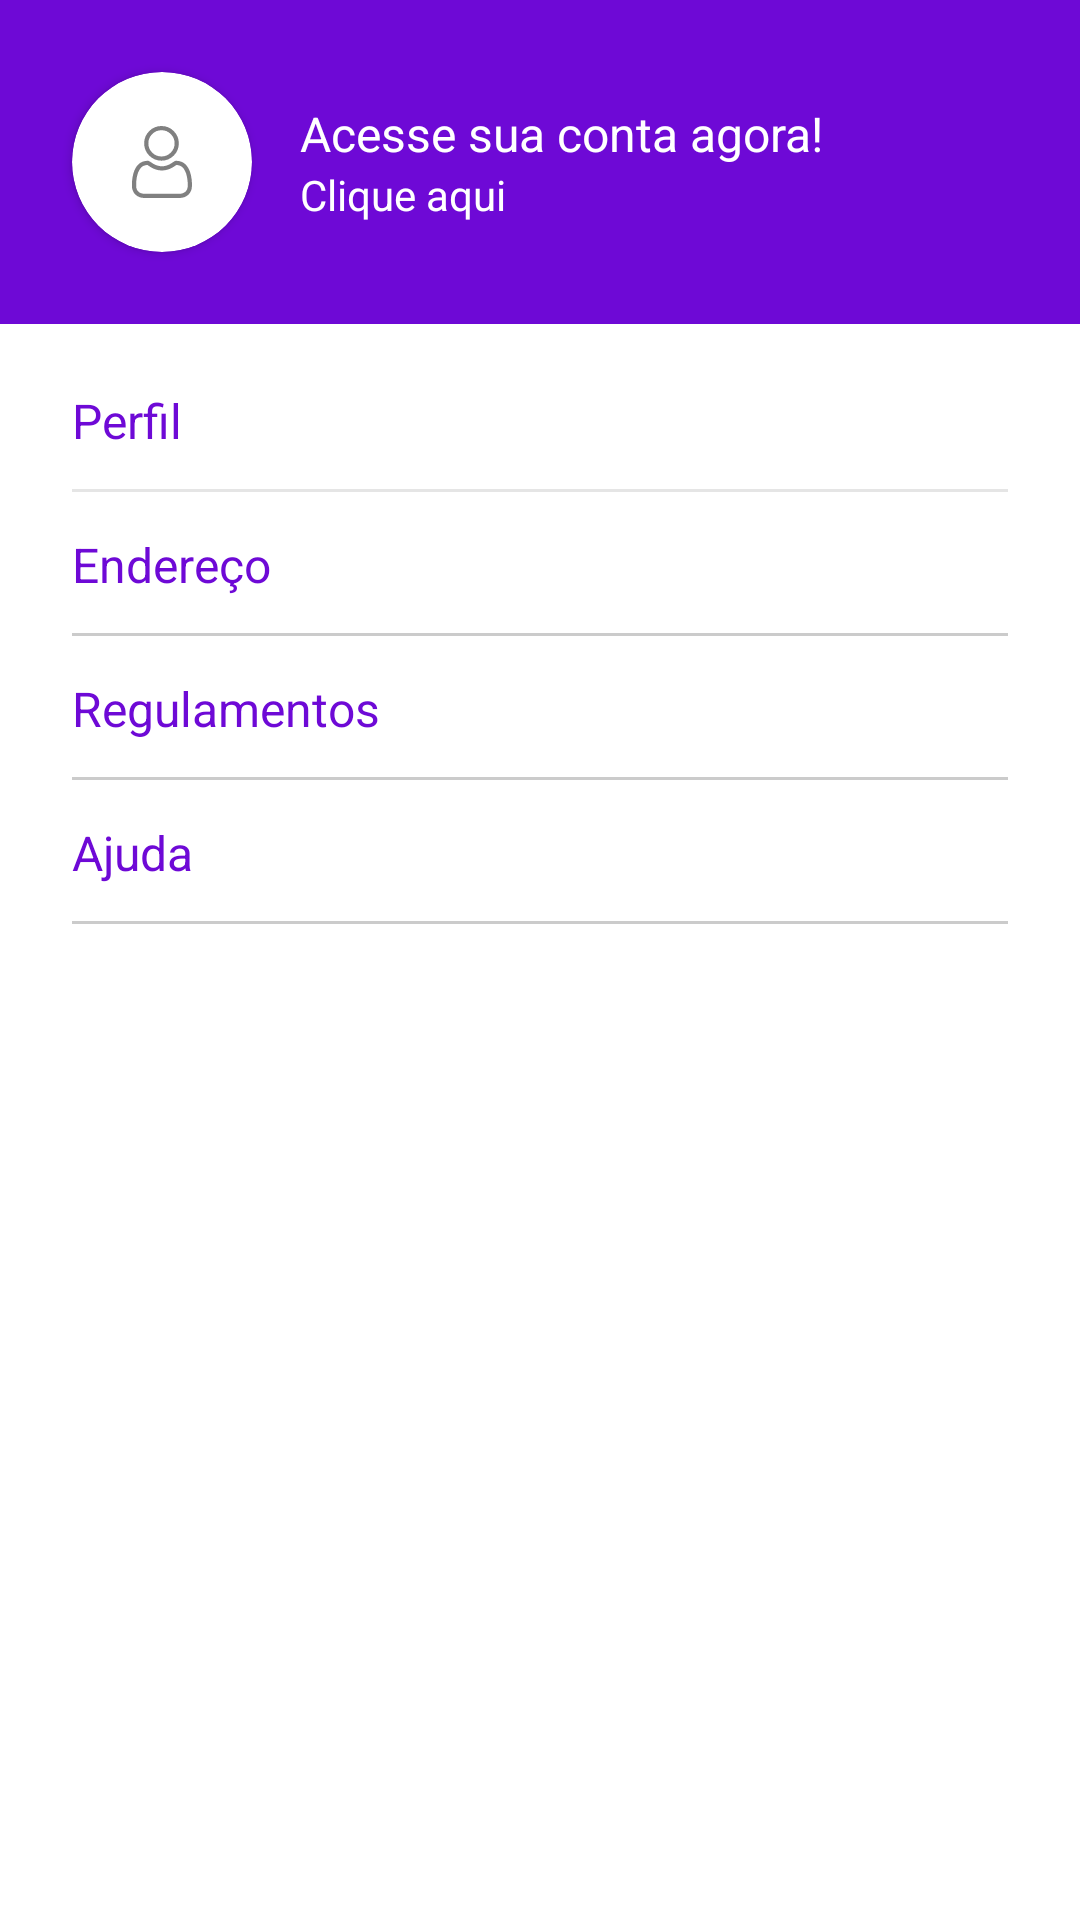

Icons on this 1080x1920 Android screen, each with the point to tap as point (x, y):
user profile: point (162, 162)
